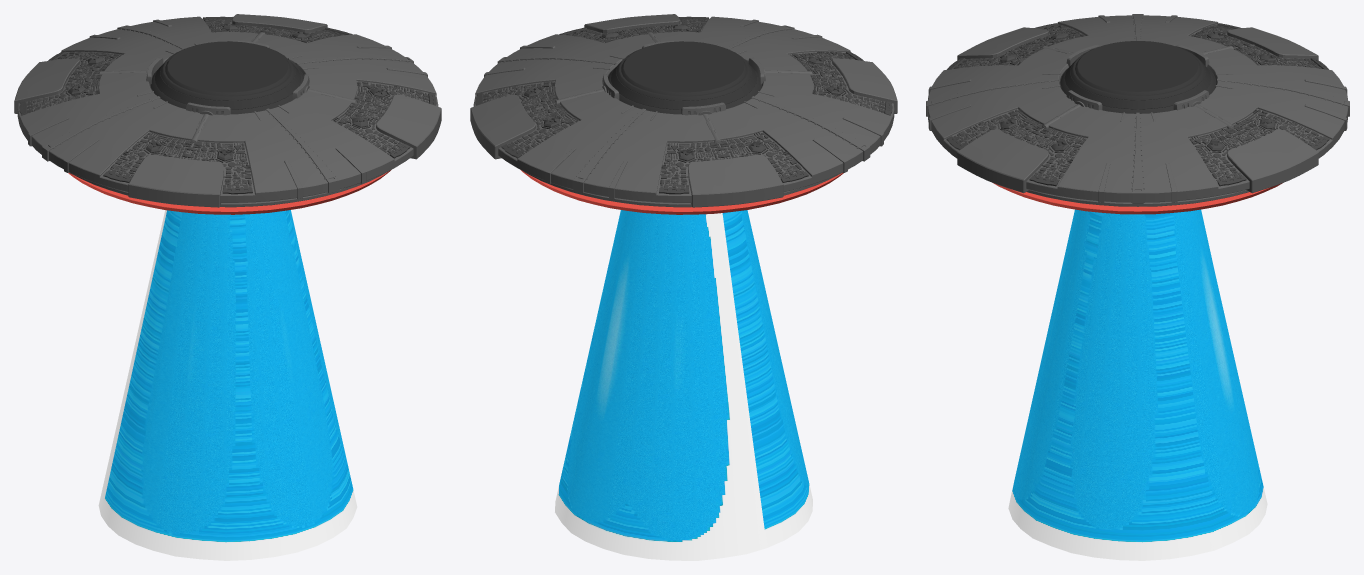
File: ufo.glb
3 views of the same model, side by side, from view 1: azimuth 30°, elevation 25°; view 2: azimuth 150°, elevation 25°; view 3: azimuth 270°, elevation 25° (orthographic).
Visible parts, largest first — view 1: Cylinder.001, UFO1, Circle.010, Circle.002; view 2: Cylinder.001, UFO1, Circle.010, Circle.002; view 3: Cylinder.001, UFO1, Circle.010, Circle.002.
Boxes of the visible parts, x1=… form: Cylinder.001: x1=98, y1=210, x2=357, y2=560; UFO1: x1=14, y1=14, x2=441, y2=207; Circle.010: x1=150, y1=41, x2=304, y2=114; Circle.002: x1=68, y1=170, x2=390, y2=214; Cylinder.001: x1=555, y1=210, x2=812, y2=560; UFO1: x1=470, y1=14, x2=897, y2=207; Circle.010: x1=607, y1=41, x2=761, y2=114; Circle.002: x1=521, y1=170, x2=843, y2=214; Cylinder.001: x1=1008, y1=209, x2=1267, y2=560; UFO1: x1=926, y1=14, x2=1349, y2=206; Circle.010: x1=1059, y1=41, x2=1216, y2=113; Circle.002: x1=993, y1=183, x2=1282, y2=214.
Bounding box in the file's own units: 4.03 × 4.61 × 4.03.
8 materials, 2 textured.
